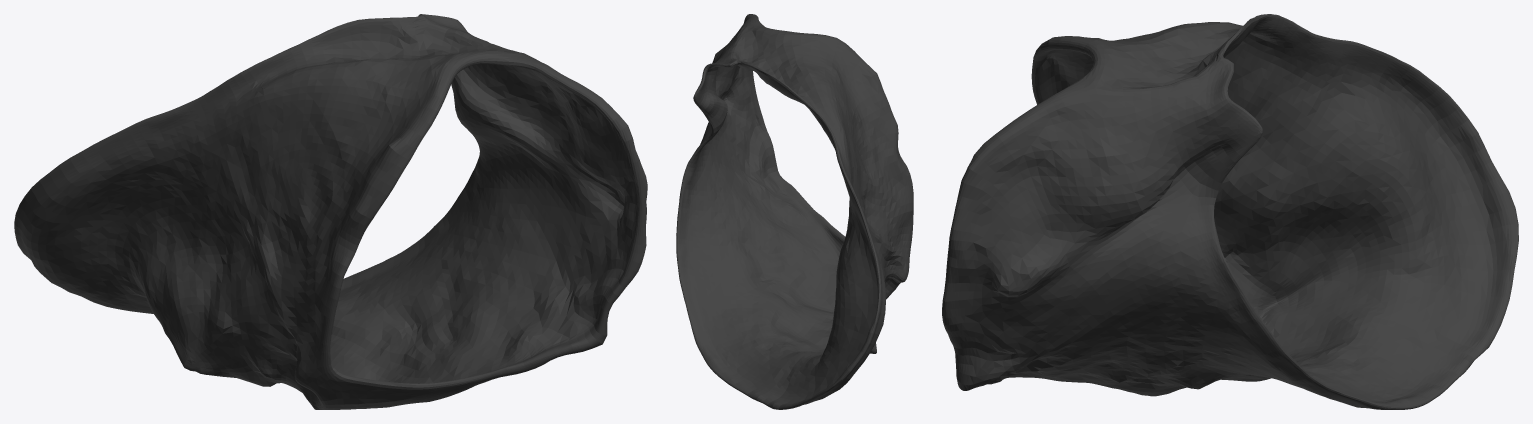
File: External_auditory_meatus_L.glb
3 views of the same model, side by side, from view 1: azimuth 30°, elevation 25°; view 2: azimuth 150°, elevation 25°; view 3: azimuth 270°, elevation 25° (orthographic). The views are drawn at different scales.
Visible parts, largest first — view 1: External_auditory_meatus_L; view 2: External_auditory_meatus_L; view 3: External_auditory_meatus_L.
Boxes of the visible parts, x1,y1,x2,y2 form: External_auditory_meatus_L: (14, 14, 647, 409); External_auditory_meatus_L: (676, 14, 913, 409); External_auditory_meatus_L: (942, 14, 1518, 409).
Bounding box in the file's own units: 3.74 × 3 × 4.03.
Materials: 1 (1 with a texture image).
